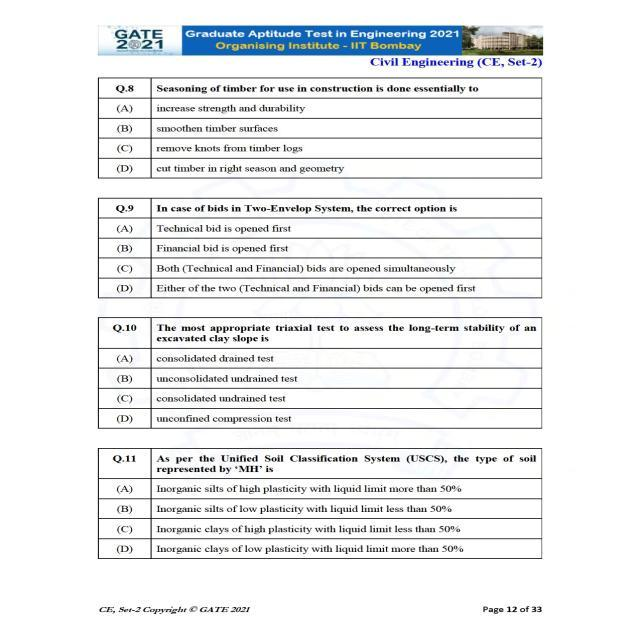Answer_Block: (96, 216, 544, 298), (99, 100, 539, 180), (100, 349, 542, 427), (96, 482, 544, 556)
Question_Answer_Block: (98, 447, 546, 558), (95, 317, 542, 428), (99, 76, 539, 178), (98, 199, 544, 299)
Question_Block: (94, 446, 546, 478), (98, 318, 540, 346), (98, 78, 546, 100), (94, 197, 548, 217)
Question_Paper_Area: (98, 79, 542, 561)
